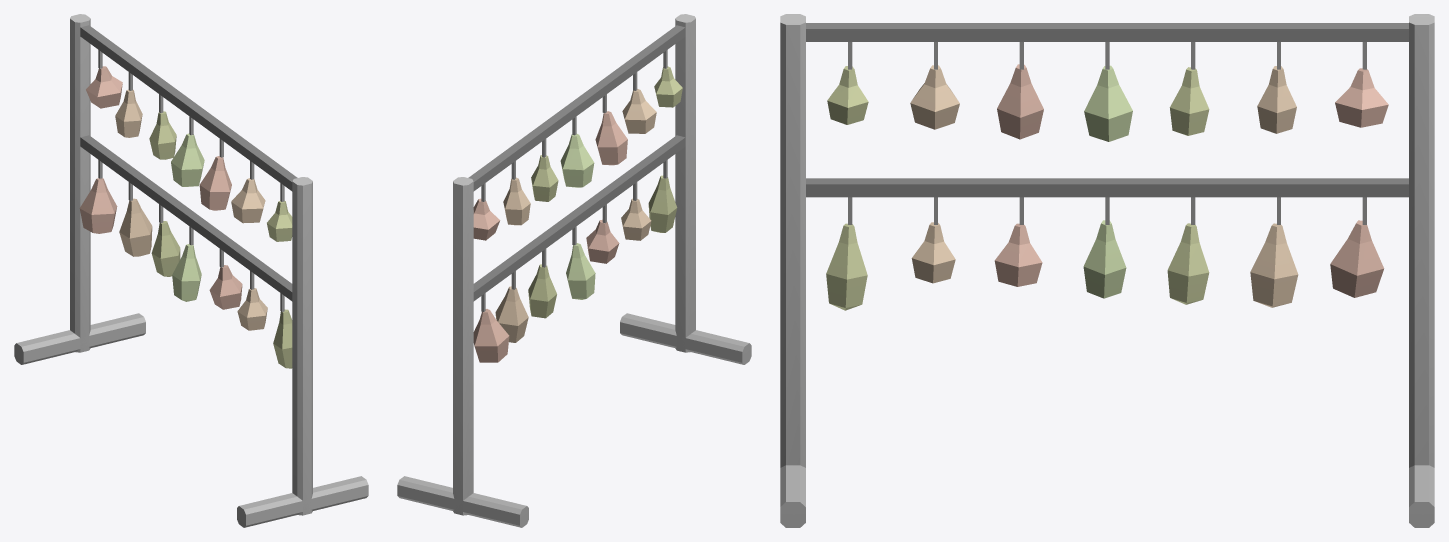
The model's file is drying_rack_1.glb.
3 views of the same model, side by side, from view 1: azimuth 30°, elevation 25°; view 2: azimuth 150°, elevation 25°; view 3: azimuth 270°, elevation 25° (orthographic). The views are drawn at different scales.
Visible parts, largest first — view 1: herb_string.015; view 2: herb_string.015; view 3: herb_string.015.
Boxes of the visible parts, box(x1,y1,x2,y2) form: herb_string.015: box(14, 14, 368, 527); herb_string.015: box(397, 14, 751, 527); herb_string.015: box(780, 14, 1434, 527).
Bounding box in the file's own units: 0.7 × 1.8 × 2.29.
